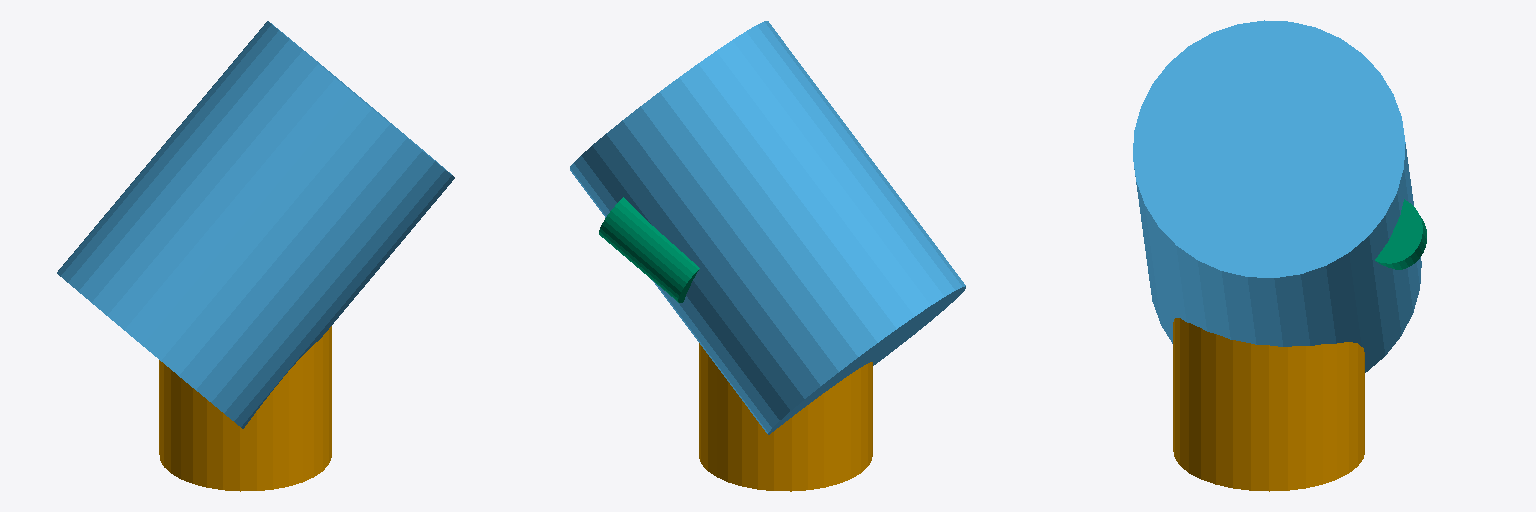
robot.urdf — pepe:
<?xml version="1.0"?><robot name="pepe">
	<link name="0">
		<visual>
			<geometry>
				<cylinder length="2.2897371470123566" radius="0.7030700459111242"/>
			</geometry>
		</visual>
		<collision>
			<geometry>
				<cylinder length="2.2897371470123566" radius="0.7030700459111242"/>
			</geometry>
		</collision>
		<inertial>
			<mass value="3.5557620726981525"/>
			<inertia ixx="0.03" iyy="0.03" izz="0.03" ixy="0" ixz="0" iyx="0"/>
		</inertial>
	</link>
	<link name="11">
		<visual>
			<geometry>
				<cylinder length="2.6780468539074365" radius="0.9999"/>
			</geometry>
		</visual>
		<collision>
			<geometry>
				<cylinder length="2.6780468539074365" radius="0.9999"/>
			</geometry>
		</collision>
		<inertial>
			<mass value="8.411649739873743"/>
			<inertia ixx="0.03" iyy="0.03" izz="0.03" ixy="0" ixz="0" iyx="0"/>
		</inertial>
	</link>
	<link name="22">
		<visual>
			<geometry>
				<cylinder length="0.8651835129770438" radius="0.2500017474238473"/>
			</geometry>
		</visual>
		<collision>
			<geometry>
				<cylinder length="0.8651835129770438" radius="0.2500017474238473"/>
			</geometry>
		</collision>
		<inertial>
			<mass value="0.1698807603281162"/>
			<inertia ixx="0.03" iyy="0.03" izz="0.03" ixy="0" ixz="0" iyx="0"/>
		</inertial>
	</link>
	<joint name="11_to_0" type="revolute">
		<parent link="0"/>
		<child link="11"/>
		<axis xyz="0 1 0"/>
		<limit effort="1" upper="-3.1415" lower="3.1415" velocity="1"/>
		<origin rpy="0.7978502867217495 6.225550231962962 1.5650392050855029" xyz="0.1319503410670193 0.058181755163629334 0.8637086315317808"/>
	</joint>
	<joint name="22_to_0" type="revolute">
		<parent link="0"/>
		<child link="22"/>
		<axis xyz="1 0 0"/>
		<limit effort="1" upper="-3.1415" lower="3.1415" velocity="1"/>
		<origin rpy="15.90295278577085 2.079850517821472 3.3194880393675463" xyz="0.6620822265345512 0.8902062092832681 0.9204059925279904"/>
	</joint>
</robot>

--- What the picture shows (computed from the rendered views, not written in the file) ---
Views: 3 orthographic renders of the robot side by side, from view 1: azimuth 30°, elevation 25°; view 2: azimuth 150°, elevation 25°; view 3: azimuth 270°, elevation 25°.
Robot: pepe — 3 links, 2 joints (2 revolute); root link 0; default pose: all joints at 0.
Visible links, largest first — view 1: 11, 0; view 2: 11, 0, 22; view 3: 11, 0, 22.
Boxes of the visible links, left/top/right/bottom form: 11: left=57, top=21, right=454, bottom=428; 0: left=159, top=326, right=331, bottom=491; 11: left=570, top=21, right=965, bottom=434; 0: left=699, top=343, right=872, bottom=491; 22: left=599, top=197, right=699, bottom=302; 11: left=1133, top=20, right=1421, bottom=372; 0: left=1173, top=318, right=1364, bottom=491; 22: left=1375, top=199, right=1426, bottom=269.
Size in the robot's own frame: 3.31 by 2.16 by 3.66 metres.
Geometry: primitives only (box / cylinder / sphere), no mesh files.
